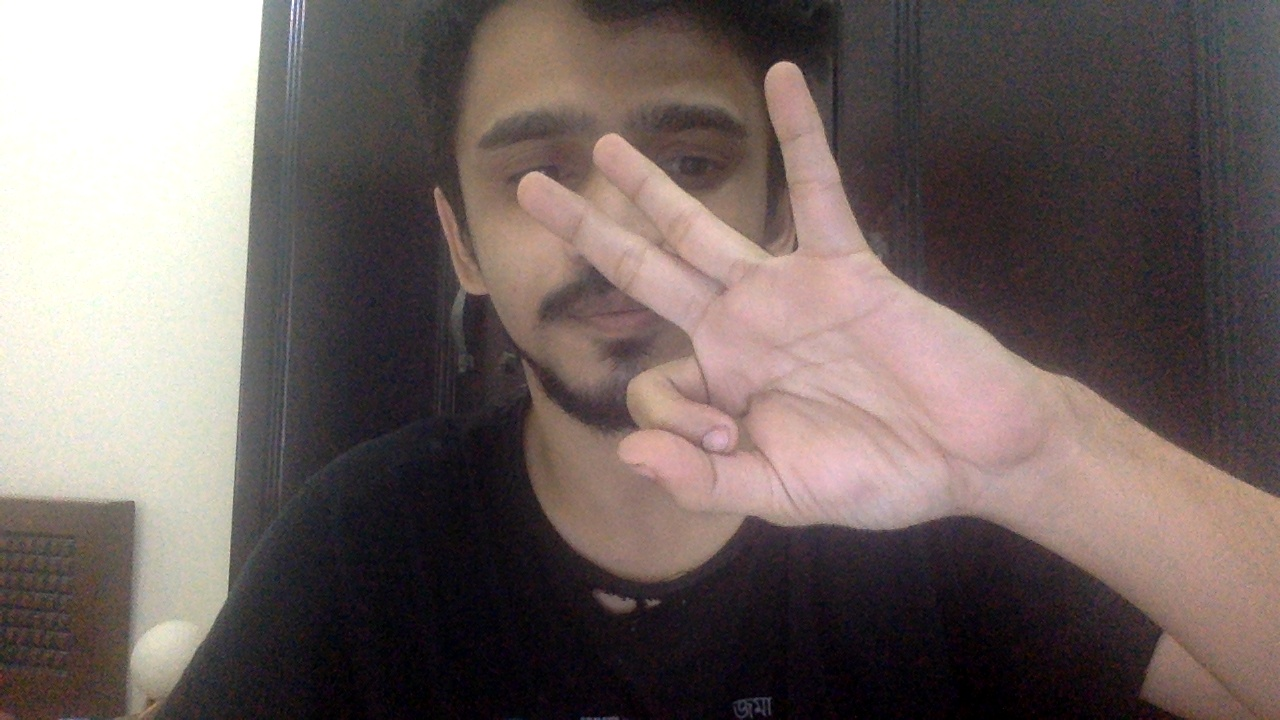perfect: (513, 57, 1046, 533)
